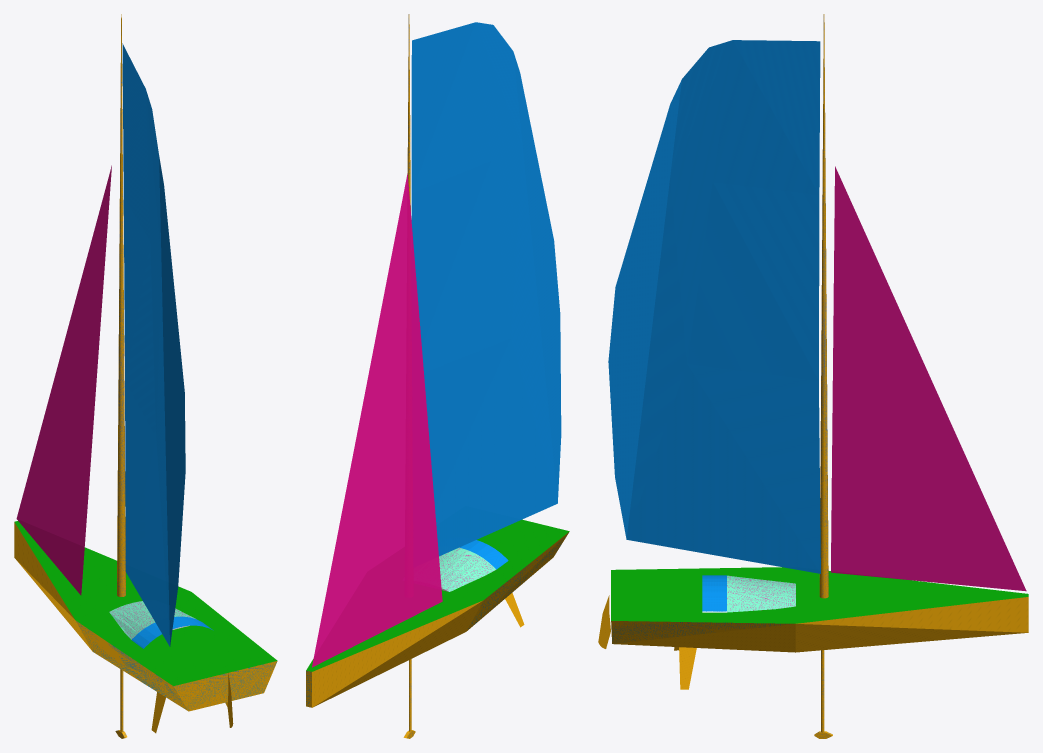
File: foc_tribord_monocoque.dae
3 renders of one model, left to right at view 1: azimuth 30°, elevation 25°; view 2: azimuth 150°, elevation 25°; view 3: azimuth 270°, elevation 25°, orthographic.
Parts seen in each view (by area): view 1: SketchUp (×8); view 2: SketchUp (×8); view 3: SketchUp (×8).
Boxes of the visible parts, x1,y1,x2,y2 form: SketchUp (×8): (14,14,277,711); SketchUp (×8): (306,14,569,707); SketchUp (×8): (608,14,1028,652).
Size of the model in its own units: 22835 by 73036 by 135626.
